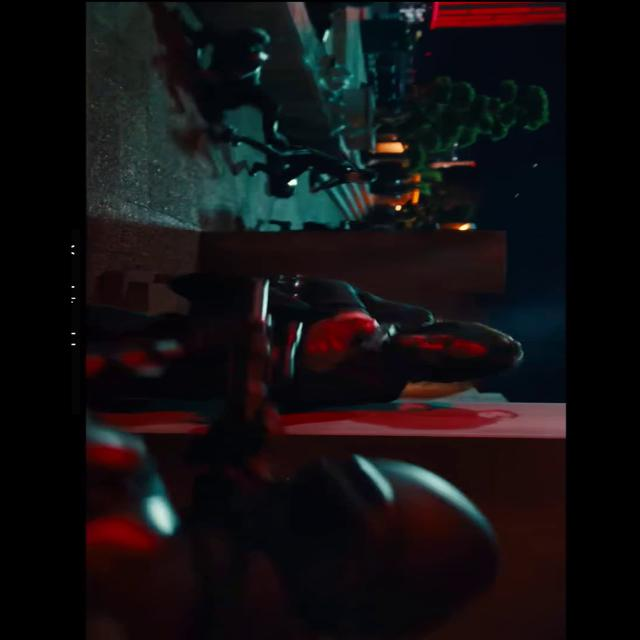weapons: (314, 314, 411, 360)
